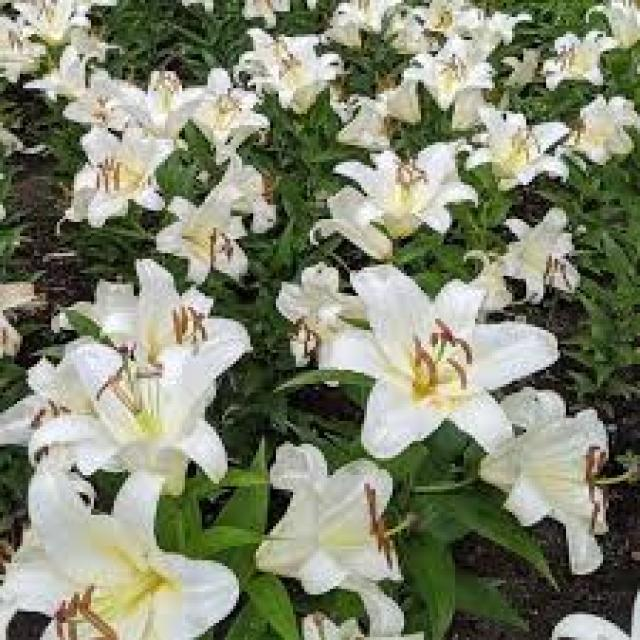lily: (324, 256, 558, 462)
